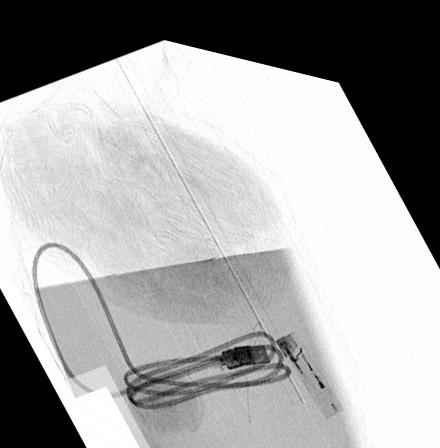Lighter: (273, 314, 344, 402)
